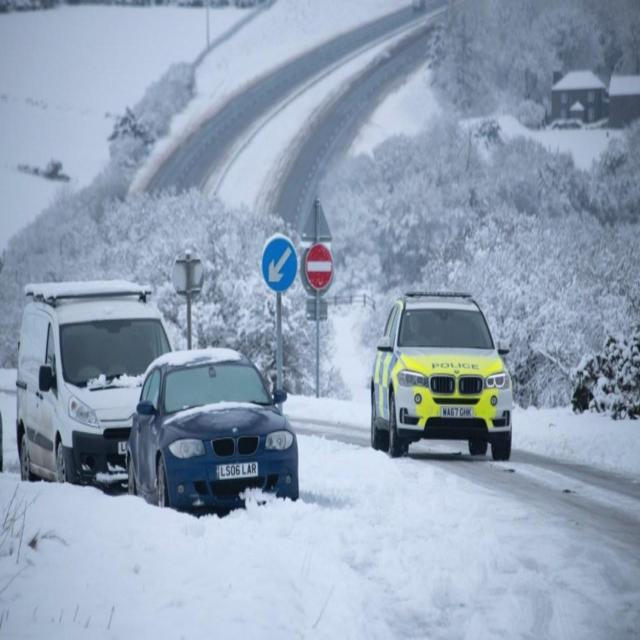Car: (377, 293, 503, 460), (141, 368, 280, 496)
Van: (27, 286, 147, 477)
